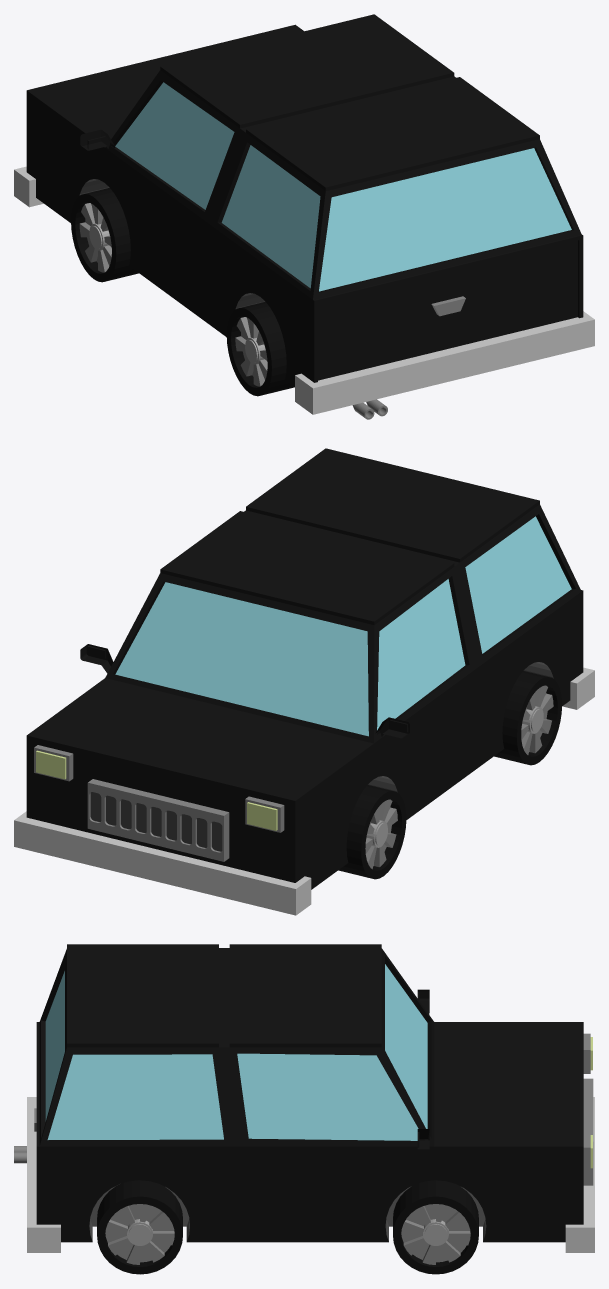
Rendered from car3.fbx.
The picture shows the model from 3 angles, top to bottom: view 1: azimuth 30°, elevation 25°; view 2: azimuth 150°, elevation 25°; view 3: azimuth 270°, elevation 25°; orthographic projection. The views are drawn at different scales.
Parts seen in each view (by area): view 1: Car3; view 2: Car3; view 3: Car3.
Part boxes in pixels (<box>): Car3: <box>14,14,594,419</box>; Car3: <box>14,448,594,915</box>; Car3: <box>14,944,594,1274</box>.
Size of the model in its own units: 132 by 87.79 by 217.
